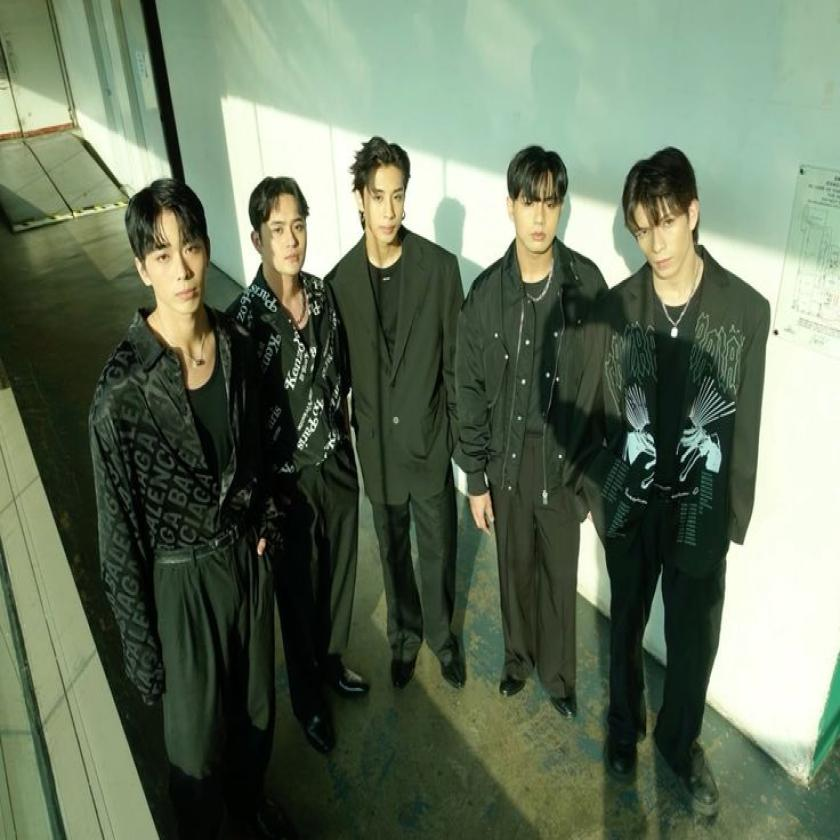Sin_casco: (130, 176, 214, 328), (626, 146, 703, 293), (500, 142, 570, 271), (248, 174, 313, 293), (351, 132, 411, 257)
